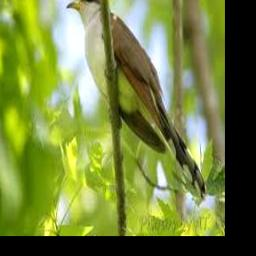Cuckoo: (66, 0, 206, 196)
